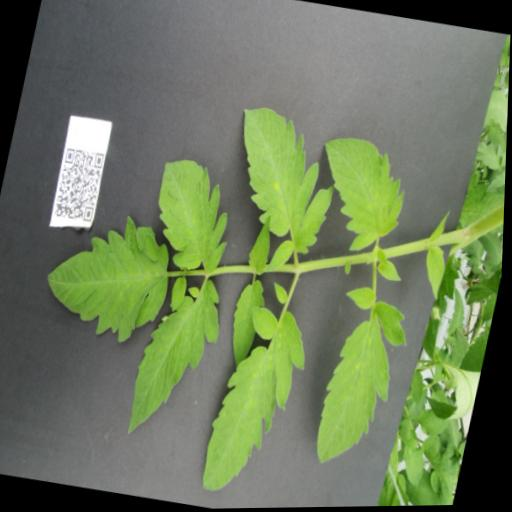Healthy: (213, 101, 351, 278), (200, 302, 318, 504), (37, 202, 184, 350), (314, 283, 421, 474), (125, 267, 234, 452), (307, 132, 417, 252), (145, 153, 245, 276), (225, 277, 272, 369), (246, 208, 279, 276), (420, 246, 451, 302), (400, 437, 434, 487), (447, 288, 473, 339), (418, 406, 455, 439), (409, 368, 431, 407)
